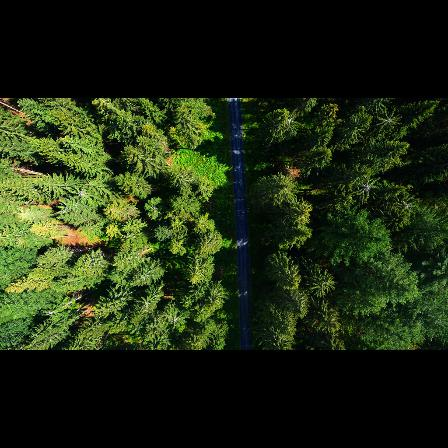Sick: (353, 173, 383, 202), (66, 181, 96, 208), (375, 109, 401, 134), (394, 193, 420, 217)
